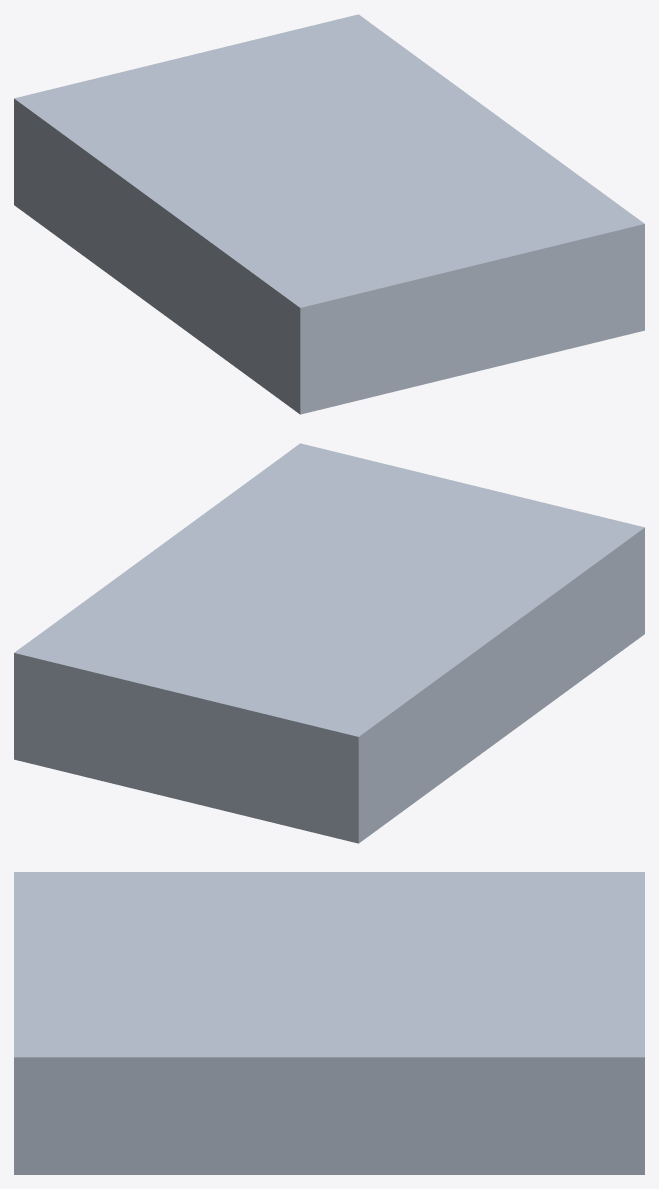
File: kzy_juhxbhop.glb
The picture shows the model from 3 angles, top to bottom: view 1: azimuth 30°, elevation 25°; view 2: azimuth 150°, elevation 25°; view 3: azimuth 270°, elevation 25°; orthographic projection. The views are drawn at different scales.
Parts seen in each view (by area): view 1: kzy_juhxbhop_sky; view 2: kzy_juhxbhop_sky; view 3: kzy_juhxbhop_sky.
Boxes of the visible parts, x1,y1,x2,y2 form: kzy_juhxbhop_sky: (14, 14, 644, 414); kzy_juhxbhop_sky: (14, 443, 644, 843); kzy_juhxbhop_sky: (14, 872, 644, 1174).
Bounding box in the file's own units: 94.46 × 28.98 × 136.
